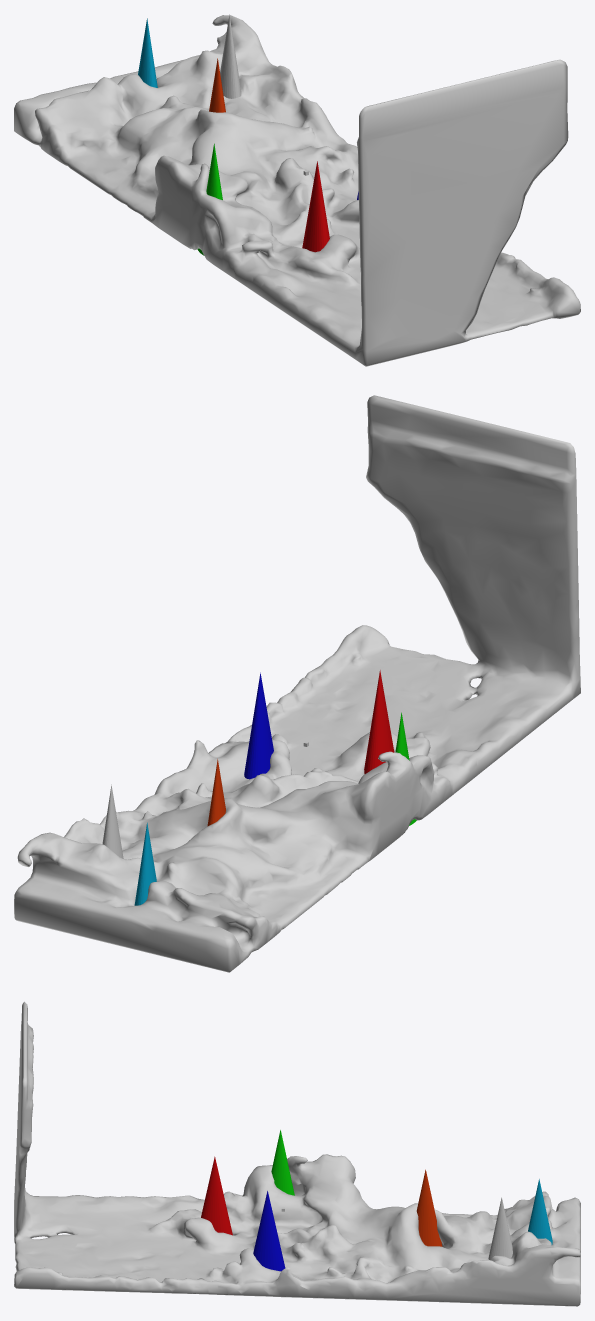
The picture shows the model from 3 angles, top to bottom: view 1: azimuth 30°, elevation 25°; view 2: azimuth 150°, elevation 25°; view 3: azimuth 270°, elevation 25°; orthographic projection. The views are drawn at different scales.
Visible parts, largest first — view 1: Liquid_Domain, 円錐.001, 円錐, 円錐.005, 円錐.003, 円錐.004; view 2: Liquid_Domain, 円錐.002, 円錐.001, 円錐.005, 円錐; view 3: Liquid_Domain, 円錐.002, 円錐.001, 円錐.004, 円錐, 円錐.003, 円錐.005.
Boxes of the visible parts, x1,y1,x2,y2 form: Liquid_Domain: (14,15,580,366); 円錐.001: (302,161,329,252); 円錐: (220,14,241,98); 円錐.005: (138,18,157,87); 円錐.003: (197,143,222,255); 円錐.004: (209,58,225,112); Liquid_Domain: (14,395,580,972); 円錐.002: (244,672,273,779); 円錐.001: (364,670,394,773); 円錐.005: (134,822,156,905); 円錐: (102,784,123,858); Liquid_Domain: (14,1001,580,1306); 円錐.002: (253,1191,285,1271); 円錐.001: (201,1156,232,1235); 円錐.004: (416,1169,442,1246); 円錐: (488,1197,512,1260); 円錐.003: (271,1130,294,1195); 円錐.005: (528,1179,552,1244).
Size of the model in its own units: 129 by 158 by 361.
